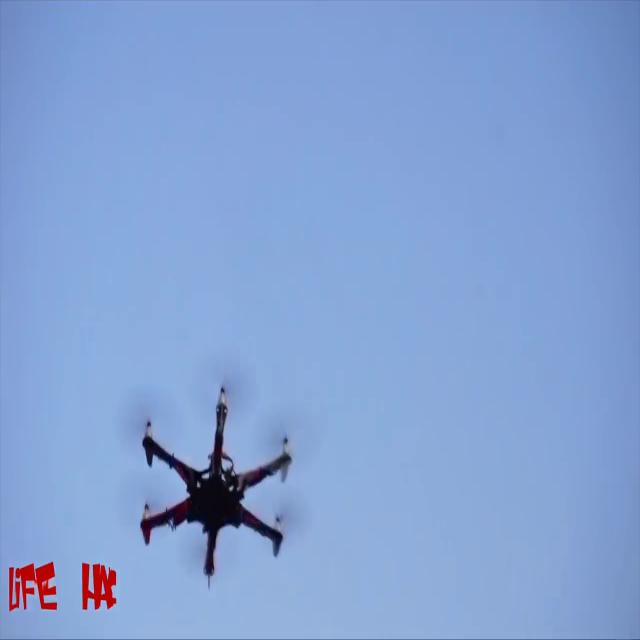drone: (128, 377, 310, 616)
